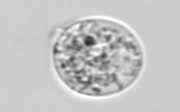plankton: (47, 12, 150, 104)
